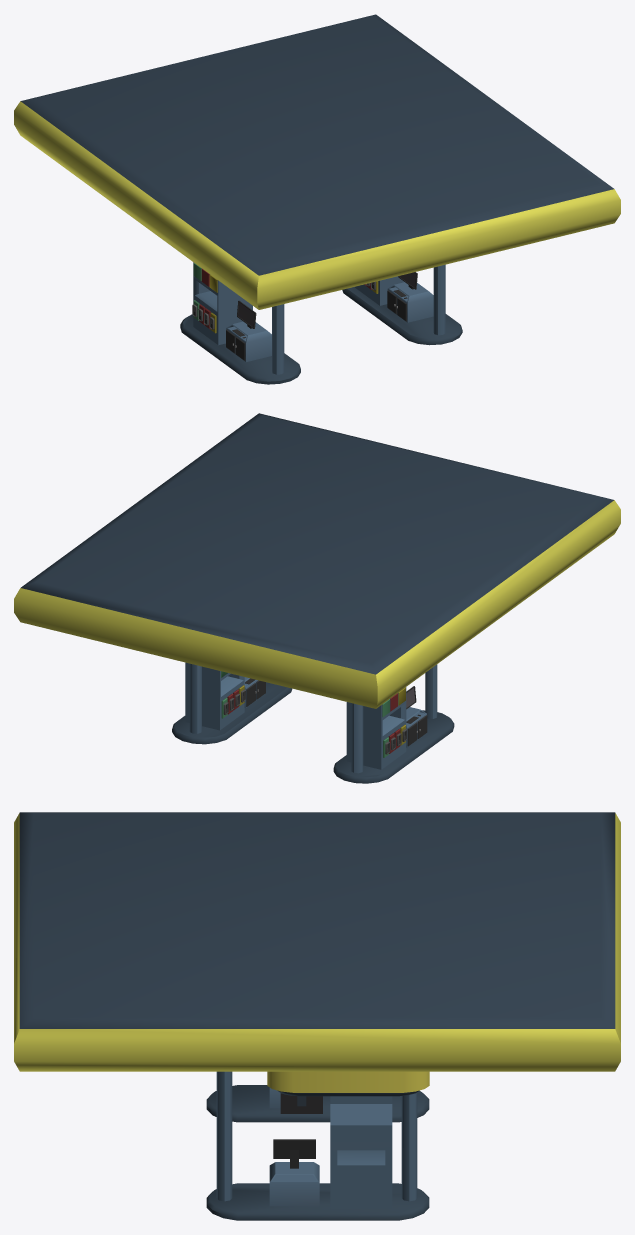
The model's file is Posto_M.fbx.
3 renders of one model, top to bottom at view 1: azimuth 30°, elevation 25°; view 2: azimuth 150°, elevation 25°; view 3: azimuth 270°, elevation 25°, orthographic. The views are drawn at different scales.
Parts seen in each view (by area): view 1: Posto.M; view 2: Posto.M; view 3: Posto.M.
Part boxes in pixels (x1,y1,x2,y2): Posto.M: [14, 14, 620, 384]; Posto.M: [14, 413, 620, 783]; Posto.M: [14, 812, 620, 1220].
Size of the model in its own units: 1353 by 677 by 1568.
